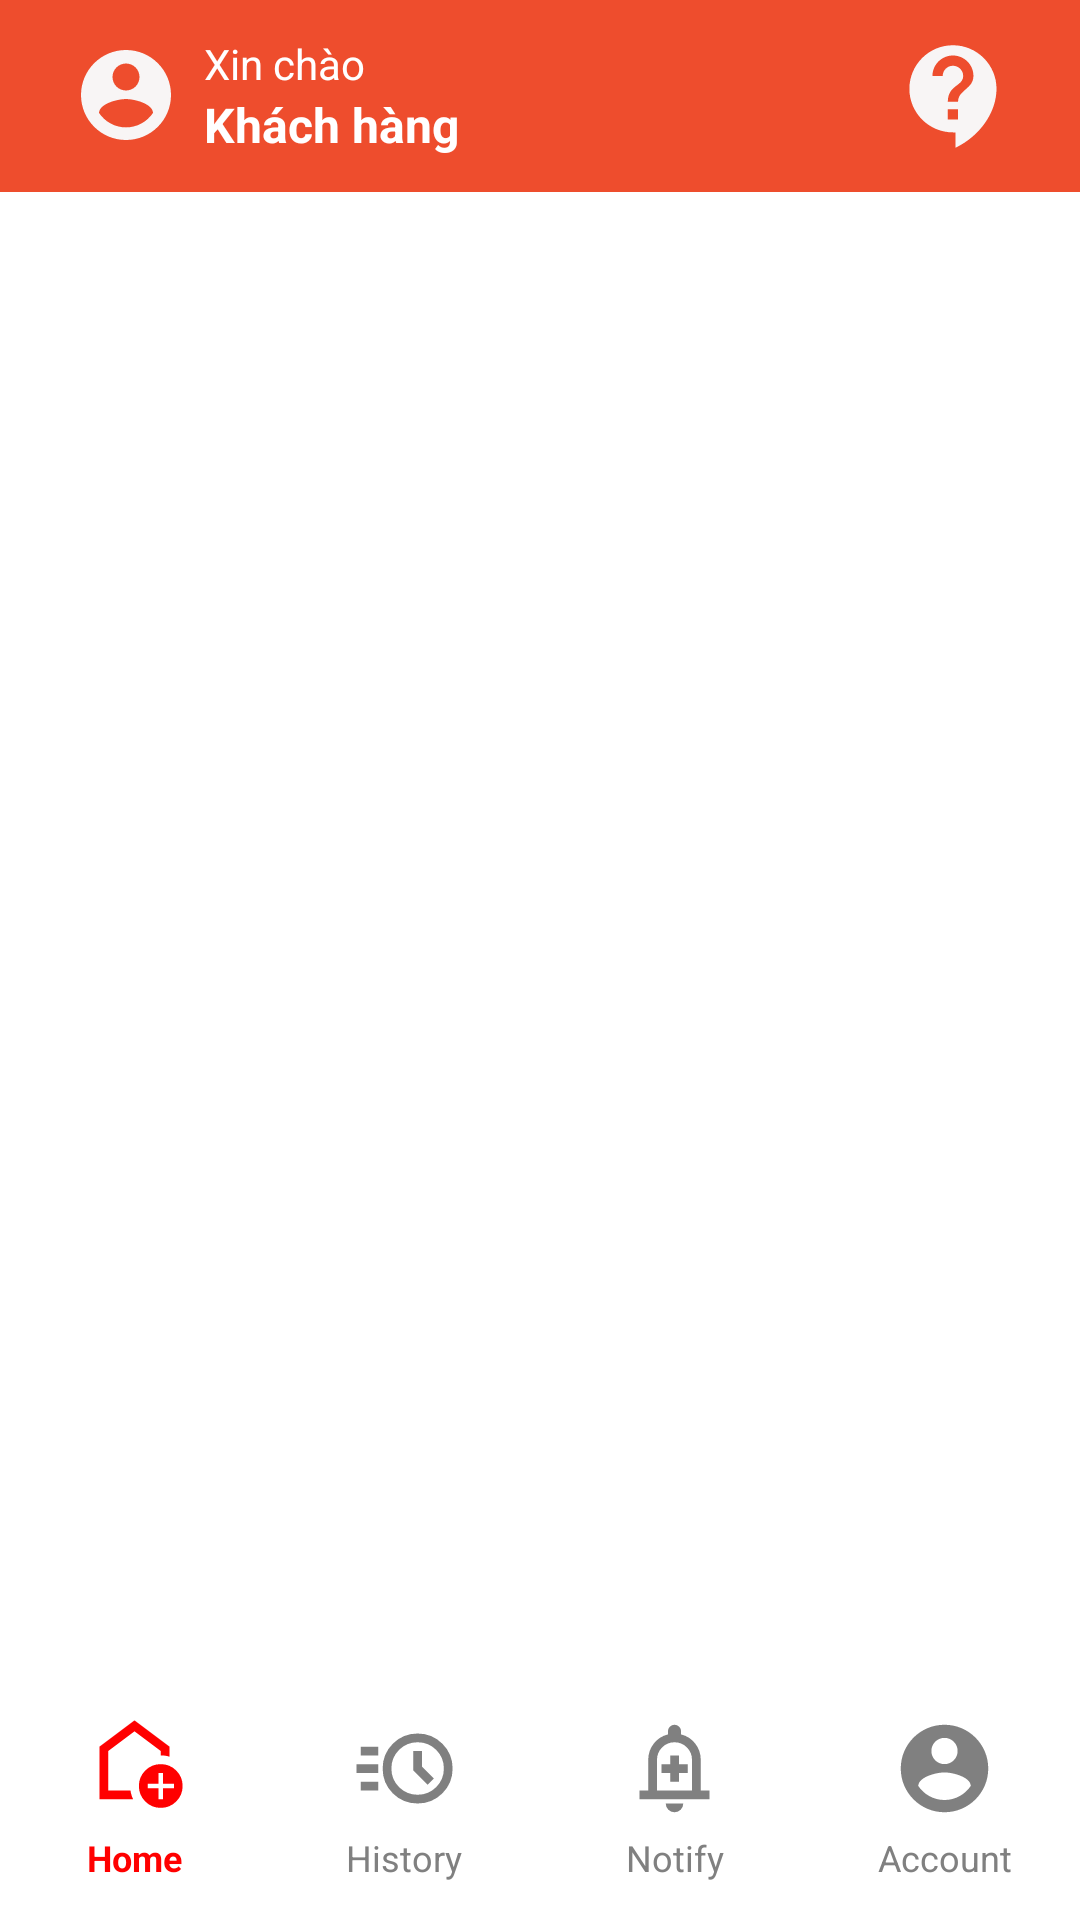

Named icons in this screenshot (1080*1920) and their bounding boxes, (left=x1, top=y1, right=x2, bottom=y2):
support: (left=909, top=45, right=997, bottom=148)
